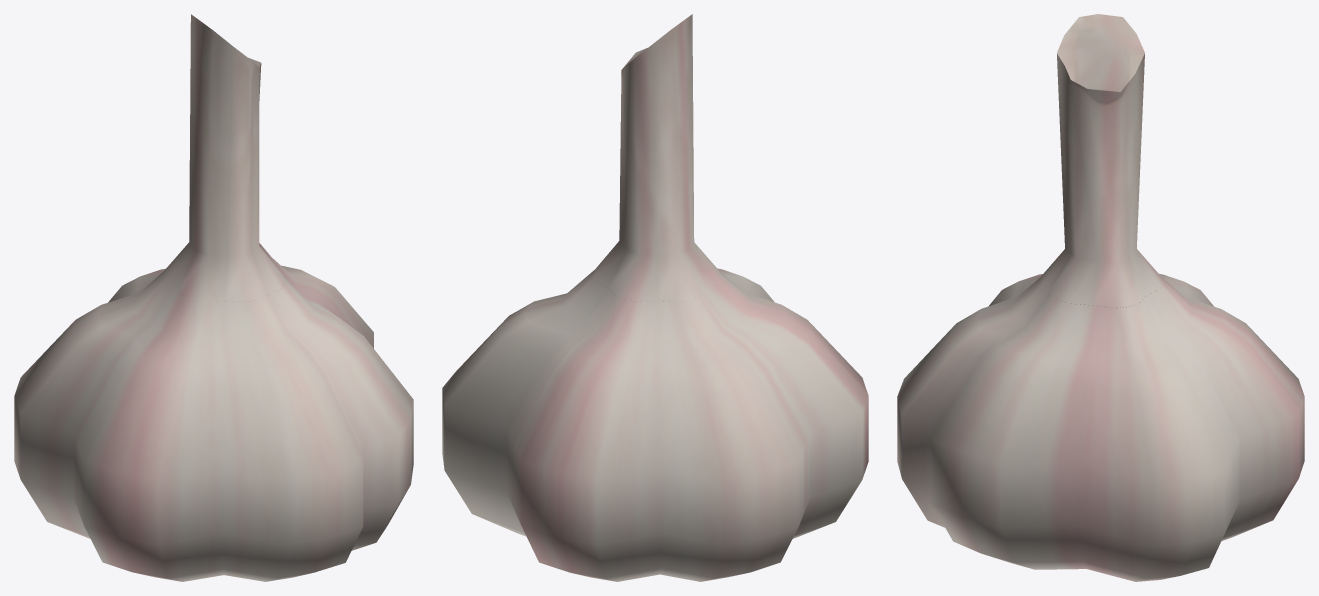
File: Garlic_A.fbx
The picture shows the model from 3 angles, left to right: view 1: azimuth 30°, elevation 25°; view 2: azimuth 150°, elevation 25°; view 3: azimuth 270°, elevation 25°; orthographic projection. The views are drawn at different scales.
Parts seen in each view (by area): view 1: U_Garlic_A; view 2: U_Garlic_A; view 3: U_Garlic_A.
Part boxes in pixels (x1=…): U_Garlic_A: x1=14, y1=14, x2=413, y2=581; U_Garlic_A: x1=442, y1=14, x2=868, y2=581; U_Garlic_A: x1=897, y1=14, x2=1304, y2=581.
Bounding box in the file's own units: 24.13 × 35.67 × 25.02.
Materials: 1 (1 with a texture image).
